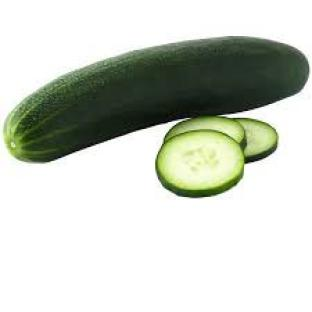Cucumber: (5, 38, 309, 162), (156, 131, 244, 196), (164, 117, 246, 148), (236, 118, 278, 162)
